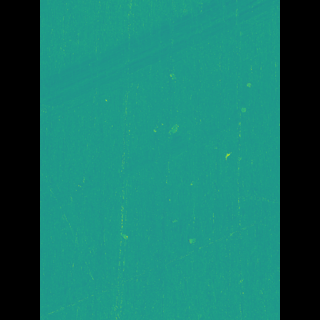Loch: (69, 0, 249, 124), (68, 98, 233, 214), (162, 120, 175, 137), (179, 233, 188, 245)
